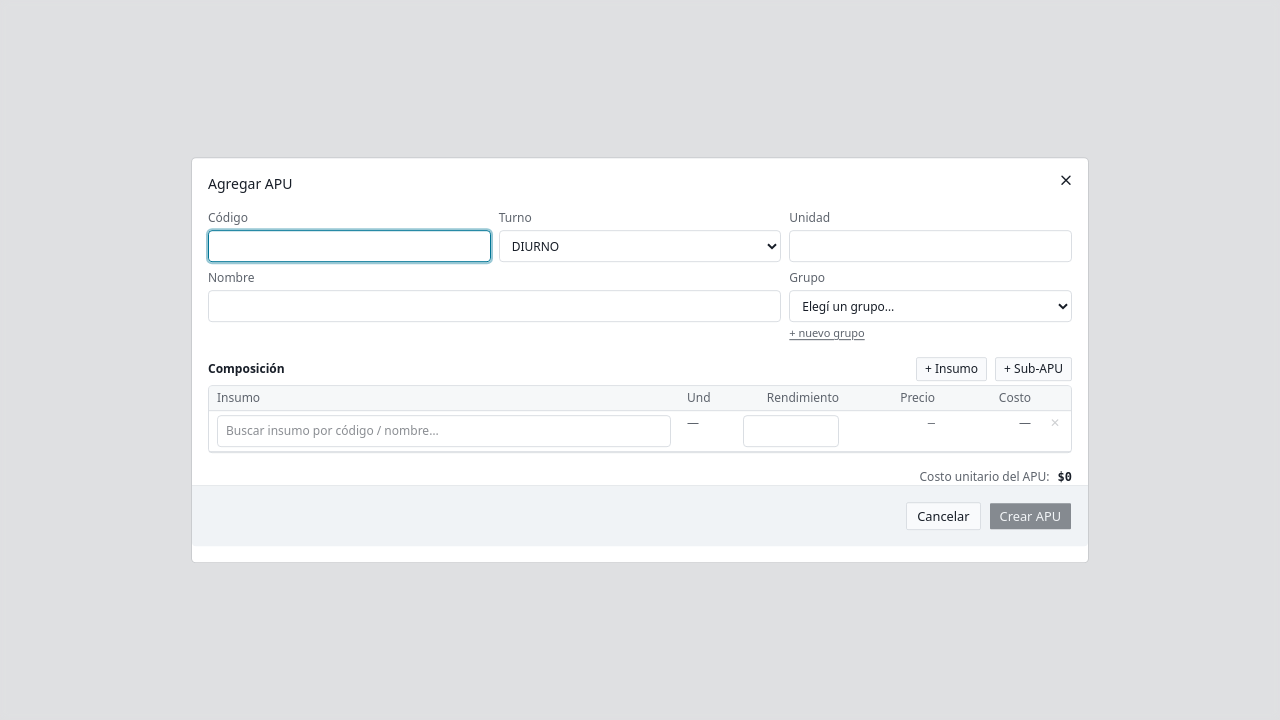
Test: un Admin crea un grupo y queda elegido
Click the button "+ nuevo grupo". click: (827, 334)
box: [789,326,865,341]
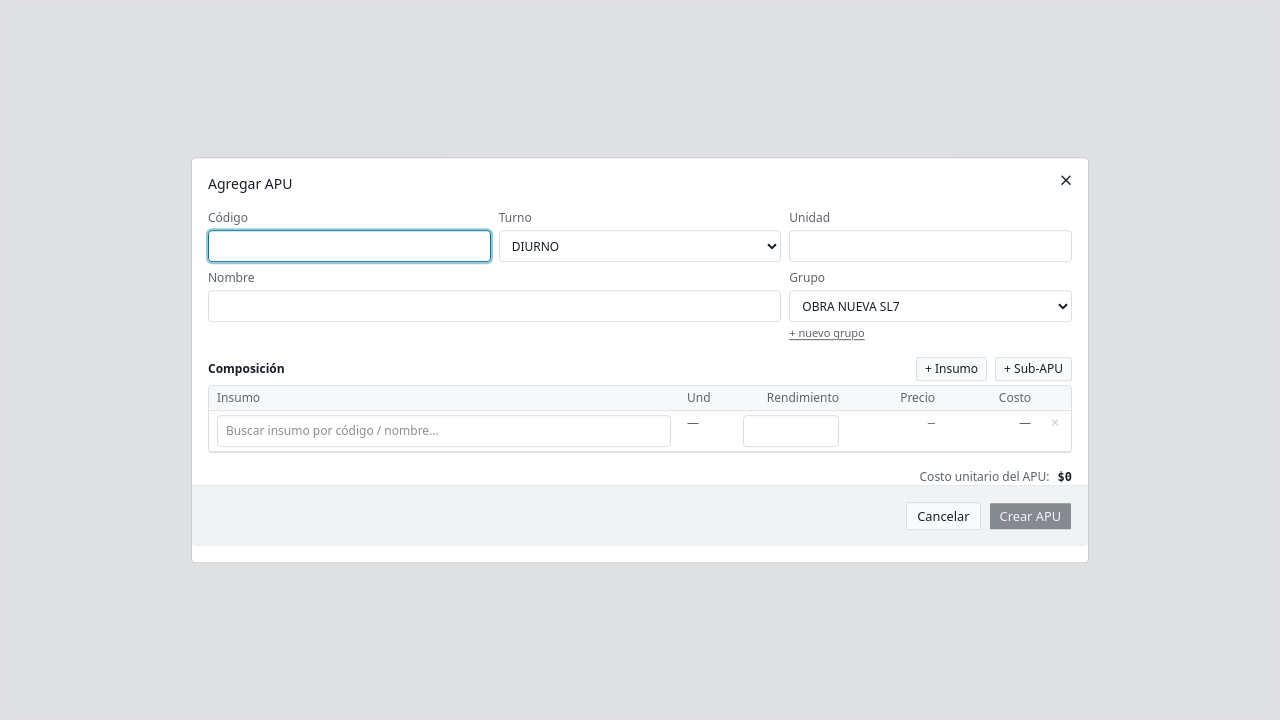
Result: the dropdown labelled "Grupo" shows "OBRA NUEVA SL7" at [789,290,1072,322]
